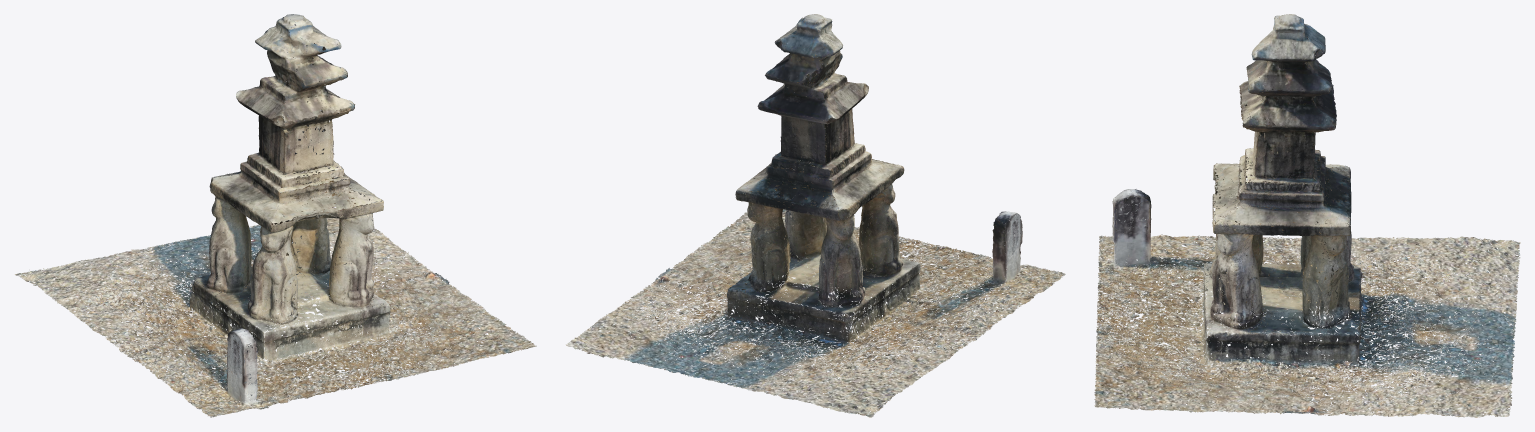
The model's file is four.glb.
The picture shows the model from 3 angles, left to right: view 1: azimuth 30°, elevation 25°; view 2: azimuth 150°, elevation 25°; view 3: azimuth 270°, elevation 25°; orthographic projection. The views are drawn at different scales.
Parts seen in each view (by area): view 1: Stereo textured mesh, Stereo textured mesh_Material0_0.001, Stereo textured mesh_Material0_0.002, Stereo textured mesh_Material0_0.003; view 2: Stereo textured mesh_Material0_0.002, Stereo textured mesh, Stereo textured mesh_Material0_0.001, Stereo textured mesh_Material0_0.003; view 3: Stereo textured mesh_Material0_0.002, Stereo textured mesh_Material0_0.001, Stereo textured mesh, Stereo textured mesh_Material0_0.003.
Part boxes in pixels (x1,y1,x2,y2): Stereo textured mesh: (171,14,478,395); Stereo textured mesh_Material0_0.001: (102,14,536,417); Stereo textured mesh_Material0_0.002: (14,18,532,413); Stereo textured mesh_Material0_0.003: (19,35,527,417); Stereo textured mesh_Material0_0.002: (567,17,1054,417); Stereo textured mesh: (643,14,1022,340); Stereo textured mesh_Material0_0.001: (658,18,1065,362); Stereo textured mesh_Material0_0.003: (566,26,1065,414); Stereo textured mesh_Material0_0.002: (1094,18,1520,417); Stereo textured mesh_Material0_0.001: (1094,15,1379,413); Stereo textured mesh: (1113,14,1350,415); Stereo textured mesh_Material0_0.003: (1095,27,1520,417).
Bounding box in the file's own units: 4.04 × 3.59 × 4.31.
1 material, 1 textured.
